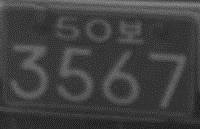0: (85, 17, 112, 42)
3: (10, 43, 48, 100)
5: (55, 46, 94, 102), (55, 15, 80, 41)
6: (101, 50, 141, 106)
7: (147, 50, 188, 108)
보: (117, 18, 144, 44)
